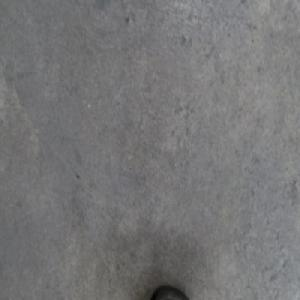AdjustableWrench: (151, 285, 188, 298)
